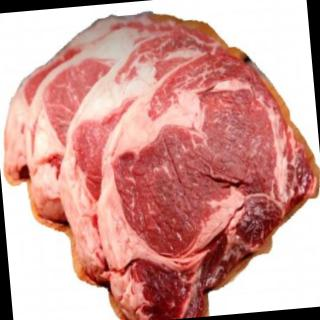Daging Sapi: (90, 47, 320, 320)
